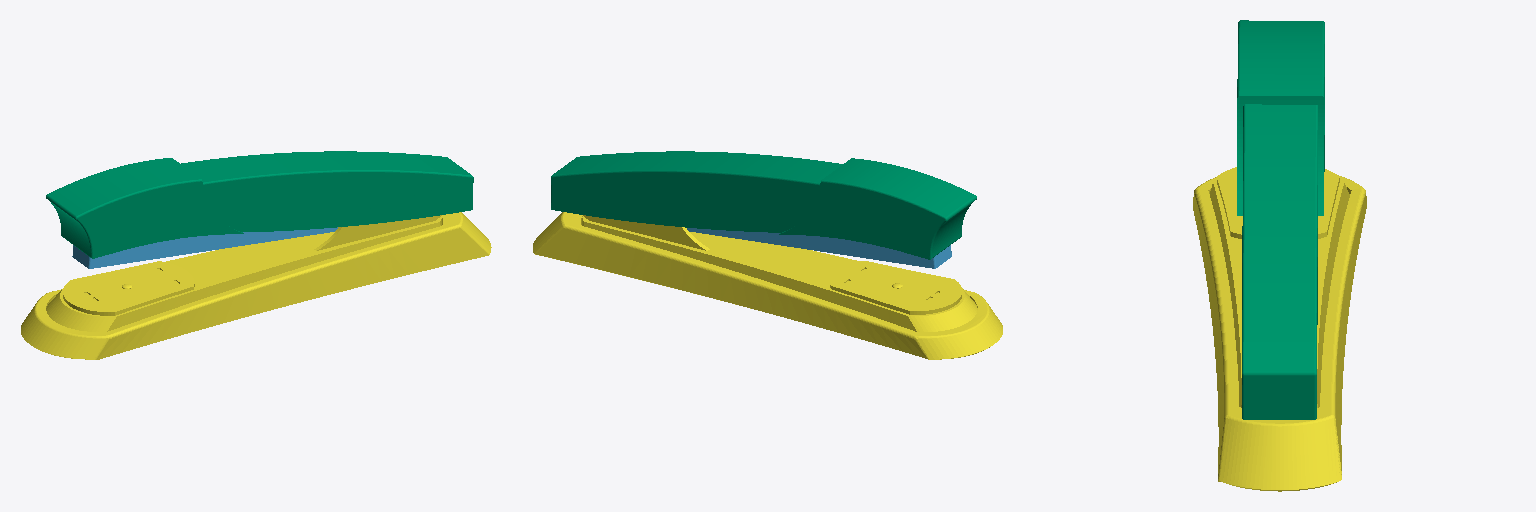
URDF robot description (partnet_u26949e8f-8139-485b-99f9-694c026ed5a6):
<?xml version="1.0" ?>
<robot name="partnet_u26949e8f-8139-485b-99f9-694c026ed5a6">
	<link name="base"/>
	<link name="link_0">
		<visual name="body-1">
			<origin xyz="-0.0024631647518303474 -0.06443583799592374 0.8261624493028051"/>
			<geometry>
				<mesh filename="textured_objs/original-16.obj"/>
			</geometry>
		</visual>
		<visual name="body-1">
			<origin xyz="-0.0024631647518303474 -0.06443583799592374 0.8261624493028051"/>
			<geometry>
				<mesh filename="textured_objs/original-17.obj"/>
			</geometry>
		</visual>
		<collision>
			<origin xyz="-0.0024631647518303474 -0.06443583799592374 0.8261624493028051"/>
			<geometry>
				<mesh filename="textured_objs/original-16.obj"/>
			</geometry>
		</collision>
		<collision>
			<origin xyz="-0.0024631647518303474 -0.06443583799592374 0.8261624493028051"/>
			<geometry>
				<mesh filename="textured_objs/original-17.obj"/>
			</geometry>
		</collision>
	</link>
	<joint name="joint_0" type="revolute">
		<origin xyz="0.0 0.0 0.0"/>
		<axis xyz="0.9999948087568121 0.001008983541317145 0.003060132618103352"/>
		<child link="link_0"/>
		<parent link="link_1"/>
		<limit lower="-0.025132741228718343" upper="2.4881413816431164"/>
	</joint>
	<link name="link_1">
		<visual name="lid-2">
			<origin xyz="-0.0024631647518303474 -0.06443583799592374 0.8261624493028051"/>
			<geometry>
				<mesh filename="textured_objs/original-4.obj"/>
			</geometry>
		</visual>
		<visual name="lid-2">
			<origin xyz="-0.0024631647518303474 -0.06443583799592374 0.8261624493028051"/>
			<geometry>
				<mesh filename="textured_objs/original-3.obj"/>
			</geometry>
		</visual>
		<visual name="lid-2">
			<origin xyz="-0.0024631647518303474 -0.06443583799592374 0.8261624493028051"/>
			<geometry>
				<mesh filename="textured_objs/original-8.obj"/>
			</geometry>
		</visual>
		<visual name="lid-2">
			<origin xyz="-0.0024631647518303474 -0.06443583799592374 0.8261624493028051"/>
			<geometry>
				<mesh filename="textured_objs/original-6.obj"/>
			</geometry>
		</visual>
		<visual name="lid-2">
			<origin xyz="-0.0024631647518303474 -0.06443583799592374 0.8261624493028051"/>
			<geometry>
				<mesh filename="textured_objs/original-9.obj"/>
			</geometry>
		</visual>
		<visual name="lid-2">
			<origin xyz="-0.0024631647518303474 -0.06443583799592374 0.8261624493028051"/>
			<geometry>
				<mesh filename="textured_objs/original-7.obj"/>
			</geometry>
		</visual>
		<visual name="lid-2">
			<origin xyz="-0.0024631647518303474 -0.06443583799592374 0.8261624493028051"/>
			<geometry>
				<mesh filename="textured_objs/original-5.obj"/>
			</geometry>
		</visual>
		<collision>
			<origin xyz="-0.0024631647518303474 -0.06443583799592374 0.8261624493028051"/>
			<geometry>
				<mesh filename="textured_objs/original-4.obj"/>
			</geometry>
		</collision>
		<collision>
			<origin xyz="-0.0024631647518303474 -0.06443583799592374 0.8261624493028051"/>
			<geometry>
				<mesh filename="textured_objs/original-3.obj"/>
			</geometry>
		</collision>
		<collision>
			<origin xyz="-0.0024631647518303474 -0.06443583799592374 0.8261624493028051"/>
			<geometry>
				<mesh filename="textured_objs/original-8.obj"/>
			</geometry>
		</collision>
		<collision>
			<origin xyz="-0.0024631647518303474 -0.06443583799592374 0.8261624493028051"/>
			<geometry>
				<mesh filename="textured_objs/original-6.obj"/>
			</geometry>
		</collision>
		<collision>
			<origin xyz="-0.0024631647518303474 -0.06443583799592374 0.8261624493028051"/>
			<geometry>
				<mesh filename="textured_objs/original-9.obj"/>
			</geometry>
		</collision>
		<collision>
			<origin xyz="-0.0024631647518303474 -0.06443583799592374 0.8261624493028051"/>
			<geometry>
				<mesh filename="textured_objs/original-7.obj"/>
			</geometry>
		</collision>
		<collision>
			<origin xyz="-0.0024631647518303474 -0.06443583799592374 0.8261624493028051"/>
			<geometry>
				<mesh filename="textured_objs/original-5.obj"/>
			</geometry>
		</collision>
	</link>
	<joint name="joint_1" type="revolute">
		<origin xyz="0.0024631647518303474 0.06443583799592374 -0.8261624493028051"/>
		<axis xyz="-0.9999948087568121 -0.001008983541317145 -0.003060132618103352"/>
		<child link="link_1"/>
		<parent link="link_2"/>
		<limit lower="-0.0942477796076934" upper="2.142566189748239"/>
	</joint>
	<link name="link_2">
		<visual name="base_body-3">
			<origin xyz="0 0 0"/>
			<geometry>
				<mesh filename="textured_objs/original-21.obj"/>
			</geometry>
		</visual>
		<visual name="base_body-3">
			<origin xyz="0 0 0"/>
			<geometry>
				<mesh filename="textured_objs/original-22.obj"/>
			</geometry>
		</visual>
		<visual name="base_body-3">
			<origin xyz="0 0 0"/>
			<geometry>
				<mesh filename="textured_objs/original-13.obj"/>
			</geometry>
		</visual>
		<visual name="base_body-3">
			<origin xyz="0 0 0"/>
			<geometry>
				<mesh filename="textured_objs/original-23.obj"/>
			</geometry>
		</visual>
		<visual name="base_body-3">
			<origin xyz="0 0 0"/>
			<geometry>
				<mesh filename="textured_objs/original-11.obj"/>
			</geometry>
		</visual>
		<visual name="base_body-3">
			<origin xyz="0 0 0"/>
			<geometry>
				<mesh filename="textured_objs/original-12.obj"/>
			</geometry>
		</visual>
		<visual name="base_body-3">
			<origin xyz="0 0 0"/>
			<geometry>
				<mesh filename="textured_objs/original-24.obj"/>
			</geometry>
		</visual>
		<visual name="base_body-3">
			<origin xyz="0 0 0"/>
			<geometry>
				<mesh filename="textured_objs/original-20.obj"/>
			</geometry>
		</visual>
		<visual name="base_body-3">
			<origin xyz="0 0 0"/>
			<geometry>
				<mesh filename="textured_objs/original-1.obj"/>
			</geometry>
		</visual>
		<visual name="base_body-3">
			<origin xyz="0 0 0"/>
			<geometry>
				<mesh filename="textured_objs/original-10.obj"/>
			</geometry>
		</visual>
		<visual name="base_body-3">
			<origin xyz="0 0 0"/>
			<geometry>
				<mesh filename="textured_objs/original-14.obj"/>
			</geometry>
		</visual>
		<visual name="base_body-3">
			<origin xyz="0 0 0"/>
			<geometry>
				<mesh filename="textured_objs/original-19.obj"/>
			</geometry>
		</visual>
		<collision>
			<origin xyz="0 0 0"/>
			<geometry>
				<mesh filename="textured_objs/original-21.obj"/>
			</geometry>
		</collision>
		<collision>
			<origin xyz="0 0 0"/>
			<geometry>
				<mesh filename="textured_objs/original-22.obj"/>
			</geometry>
		</collision>
		<collision>
			<origin xyz="0 0 0"/>
			<geometry>
				<mesh filename="textured_objs/original-13.obj"/>
			</geometry>
		</collision>
		<collision>
			<origin xyz="0 0 0"/>
			<geometry>
				<mesh filename="textured_objs/original-23.obj"/>
			</geometry>
		</collision>
		<collision>
			<origin xyz="0 0 0"/>
			<geometry>
				<mesh filename="textured_objs/original-11.obj"/>
			</geometry>
		</collision>
		<collision>
			<origin xyz="0 0 0"/>
			<geometry>
				<mesh filename="textured_objs/original-12.obj"/>
			</geometry>
		</collision>
		<collision>
			<origin xyz="0 0 0"/>
			<geometry>
				<mesh filename="textured_objs/original-24.obj"/>
			</geometry>
		</collision>
		<collision>
			<origin xyz="0 0 0"/>
			<geometry>
				<mesh filename="textured_objs/original-20.obj"/>
			</geometry>
		</collision>
		<collision>
			<origin xyz="0 0 0"/>
			<geometry>
				<mesh filename="textured_objs/original-1.obj"/>
			</geometry>
		</collision>
		<collision>
			<origin xyz="0 0 0"/>
			<geometry>
				<mesh filename="textured_objs/original-10.obj"/>
			</geometry>
		</collision>
		<collision>
			<origin xyz="0 0 0"/>
			<geometry>
				<mesh filename="textured_objs/original-14.obj"/>
			</geometry>
		</collision>
		<collision>
			<origin xyz="0 0 0"/>
			<geometry>
				<mesh filename="textured_objs/original-19.obj"/>
			</geometry>
		</collision>
	</link>
	<joint name="joint_2" type="fixed">
		<origin rpy="1.570796326794897 0 -1.570796326794897" xyz="0 0 0"/>
		<child link="link_2"/>
		<parent link="base"/>
	</joint>
</robot>

--- What the picture shows (computed from the rendered views, not written in the file) ---
The picture shows the robot from 3 angles, left to right: view 1: azimuth 30°, elevation 25°; view 2: azimuth 150°, elevation 25°; view 3: azimuth 270°, elevation 25°; orthographic projection.
Model partnet_u26949e8f-8139-485b-99f9-694c026ed5a6 with 4 links and 3 joints (2 revolute, 1 fixed), rooted at base, posed every joint at zero.
Links seen in each view (by area): view 1: link_2, link_1, link_0; view 2: link_1, link_2, link_0; view 3: link_1, link_2.
Boxes of the visible links, x1,y1,x2,y2 form: link_2: (21,212,491,359); link_1: (46,151,473,258); link_0: (72,227,337,268); link_1: (551,151,976,259); link_2: (533,212,1002,359); link_0: (687,228,951,268); link_1: (1237,20,1324,419); link_2: (1193,167,1366,491).
Size in the robot's own frame: 1.99 by 0.4753 by 0.6006 metres.
Meshes: 21 distinct files referenced, 21 mesh visuals loaded (21 OBJ).
